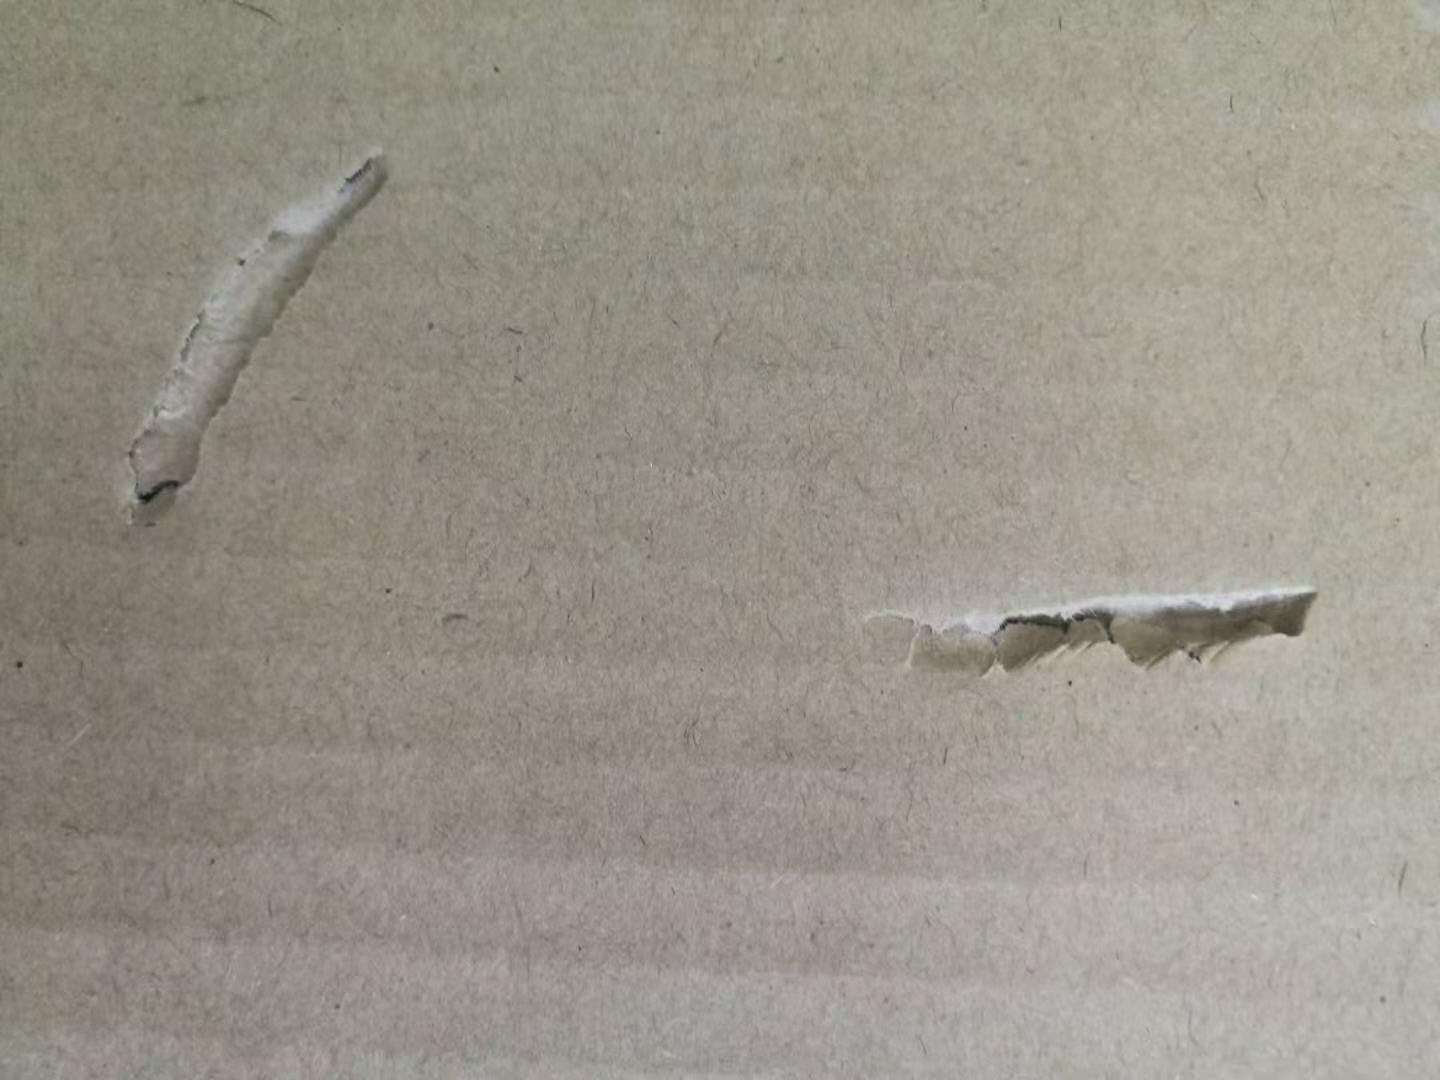defect: (81, 120, 427, 552), (836, 550, 1349, 725)
